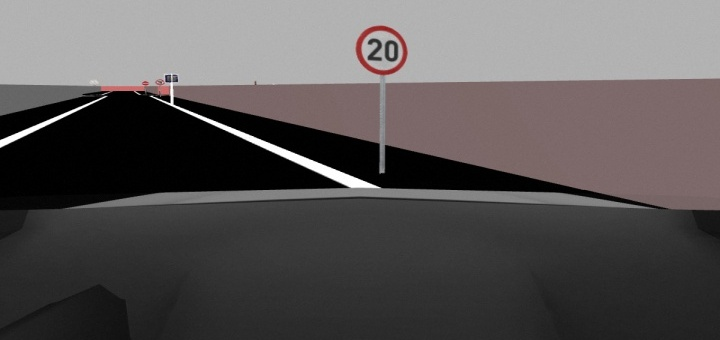hiz_20: (355, 23, 410, 77)
